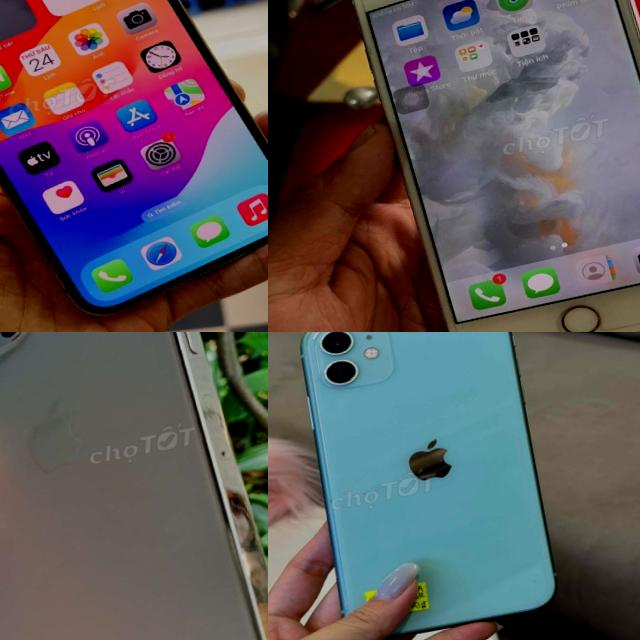gen_11: (277, 332, 574, 640)
gen_12_13: (0, 0, 268, 332), (0, 332, 268, 640)
gen_7_8: (354, 0, 640, 332)
